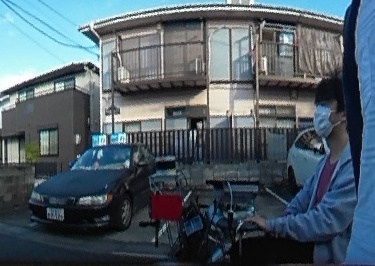person: (293, 72, 358, 266)
